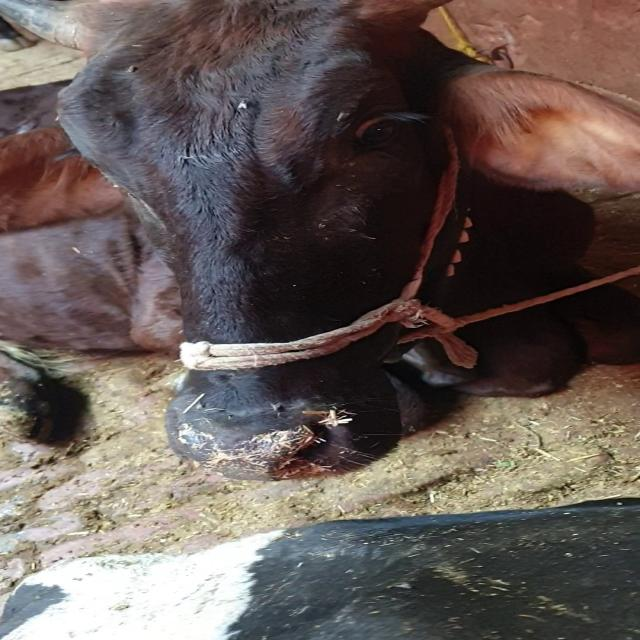cowFace: (72, 24, 534, 486)
